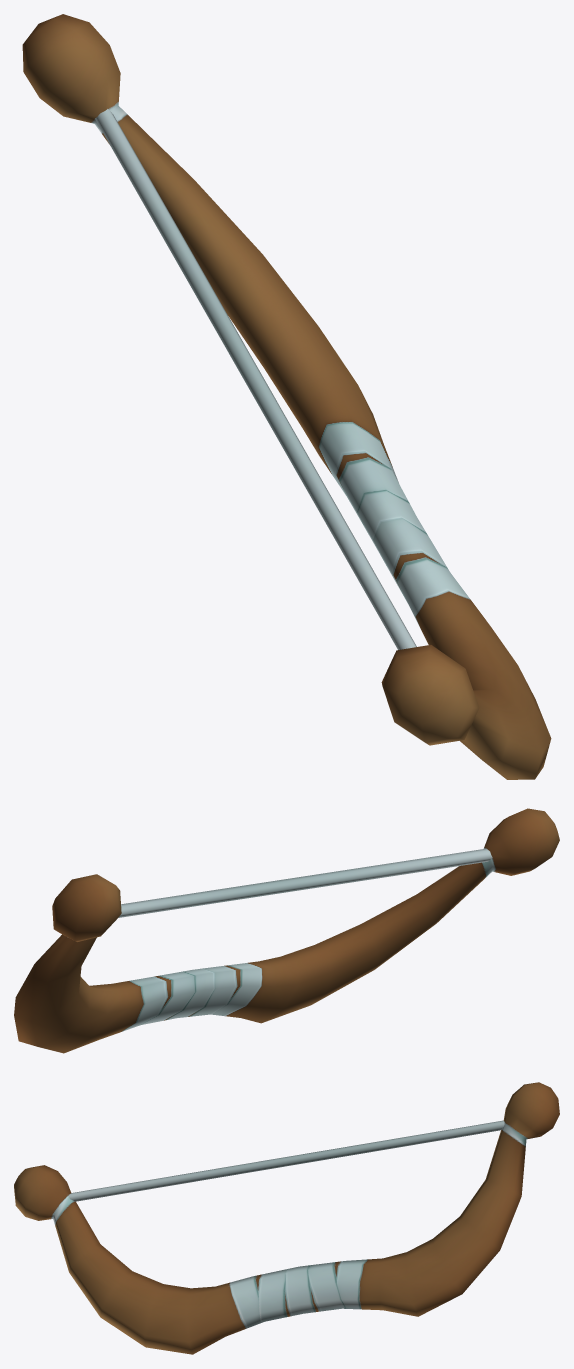
The model's file is SM_Bow_Tier1.fbx.
3 views of the same model, one above another, from view 1: azimuth 30°, elevation 25°; view 2: azimuth 150°, elevation 25°; view 3: azimuth 270°, elevation 25° (orthographic). The views are drawn at different scales.
Visible parts, largest first — view 1: Bow; view 2: Bow; view 3: Bow.
Part boxes in pixels (left/top/right/bottom): Bow: left=22, top=14, right=551, bottom=779; Bow: left=14, top=808, right=559, bottom=1053; Bow: left=14, top=1082, right=559, bottom=1354.
Bounding box in the file's own units: 29.95 × 38.48 × 78.83.
